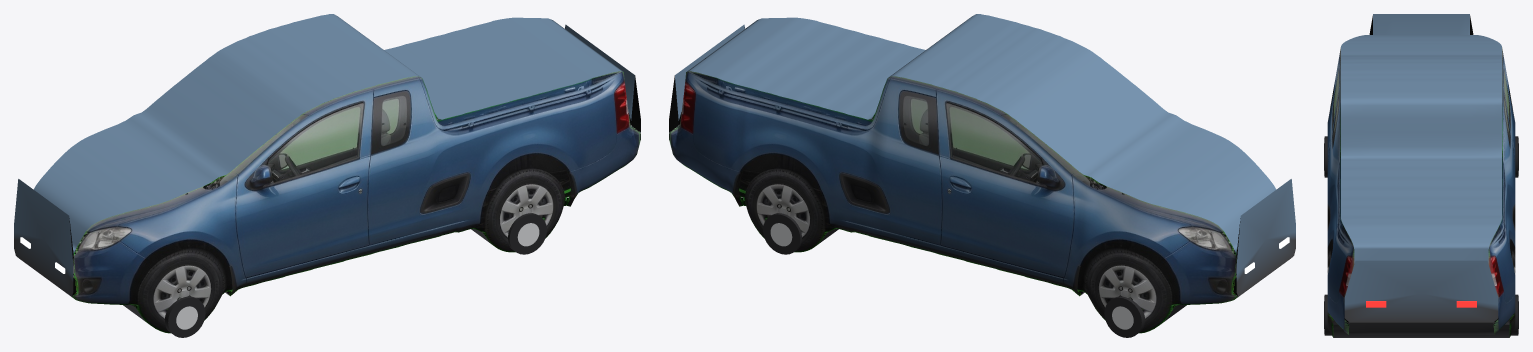
The model's file is pickup.glb.
3 views of the same model, side by side, from view 1: azimuth 30°, elevation 25°; view 2: azimuth 150°, elevation 25°; view 3: azimuth 270°, elevation 25° (orthographic). The views are drawn at different scales.
Visible parts, largest first — view 1: pickup; view 2: pickup; view 3: pickup.
Boxes of the visible parts, x1,y1,x2,y2 form: pickup: [14, 14, 640, 337]; pickup: [669, 14, 1295, 337]; pickup: [1324, 14, 1518, 337].
Size of the model in its own units: 4.78 by 1.61 by 1.52.
Materials: 8 (2 with a texture image).
